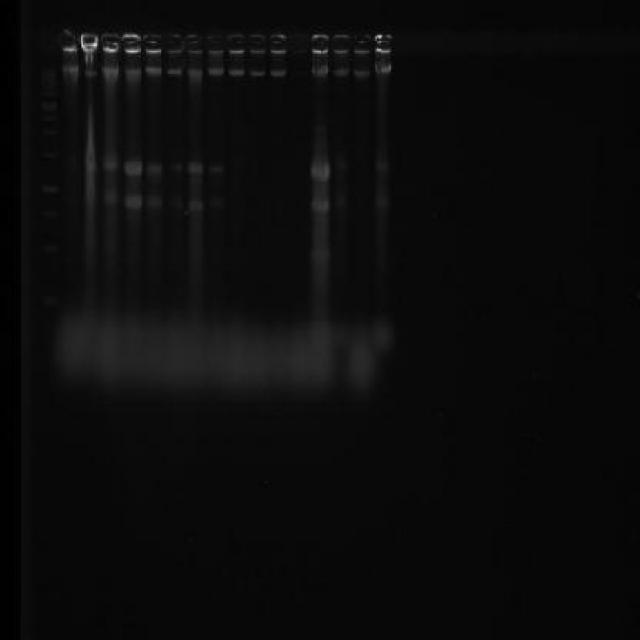B: (306, 158, 332, 182), (306, 196, 334, 217), (122, 156, 144, 178), (184, 196, 207, 215), (122, 192, 144, 210), (144, 160, 164, 178), (144, 192, 164, 210), (102, 189, 121, 206), (207, 192, 224, 211), (372, 194, 392, 210), (185, 161, 204, 176), (206, 162, 226, 176), (102, 156, 118, 172), (374, 160, 392, 174)
L: (32, 23, 398, 62)
M: (32, 66, 65, 320)
P: (37, 292, 59, 310), (37, 206, 59, 220), (37, 242, 57, 256), (39, 182, 59, 195), (41, 99, 58, 113), (42, 149, 58, 160), (40, 115, 58, 124), (40, 128, 57, 137), (40, 89, 57, 97), (41, 83, 57, 89)
Pc: (56, 26, 78, 56), (101, 30, 121, 56), (142, 30, 162, 56), (79, 30, 99, 55), (122, 30, 142, 55), (331, 32, 351, 56), (310, 32, 330, 56), (164, 30, 182, 56), (288, 33, 308, 56), (353, 32, 372, 56), (206, 32, 225, 56), (185, 32, 204, 56), (268, 33, 288, 55), (374, 32, 392, 56), (248, 32, 266, 56), (226, 32, 245, 54)
